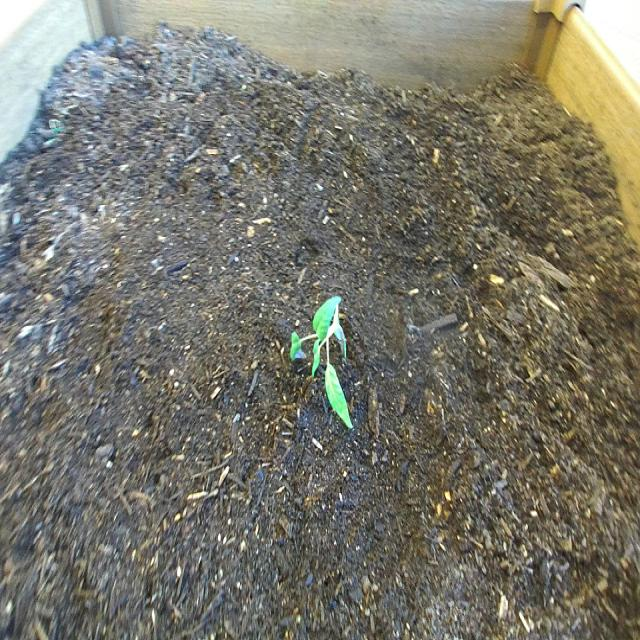Healthy: (286, 290, 359, 440)
